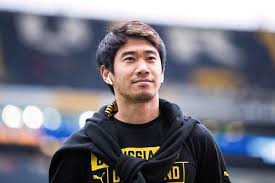earphone: (99, 65, 115, 85)
